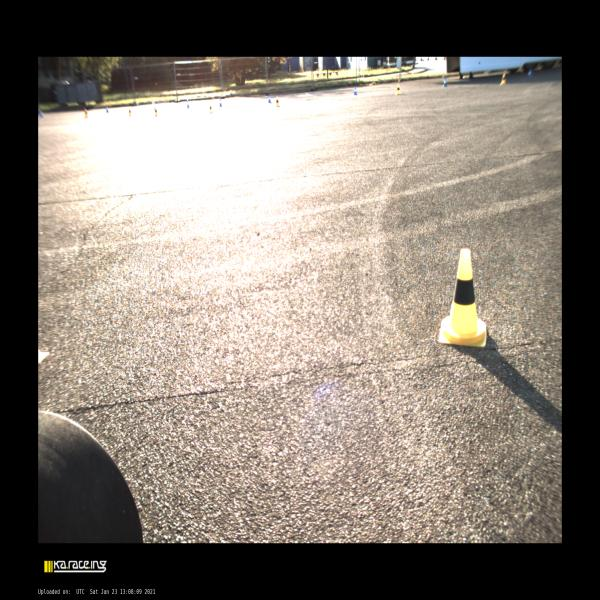blue_cone: (352, 86, 358, 96), (442, 78, 447, 88), (267, 94, 272, 103), (527, 69, 532, 78), (39, 110, 44, 118), (106, 105, 109, 113), (187, 98, 189, 108), (220, 98, 222, 107)
yellow_cone: (439, 248, 487, 347), (38, 350, 50, 364), (499, 73, 507, 86), (396, 84, 401, 96), (276, 95, 280, 108), (153, 107, 158, 117), (84, 110, 88, 118), (209, 105, 212, 114), (128, 109, 131, 116)
